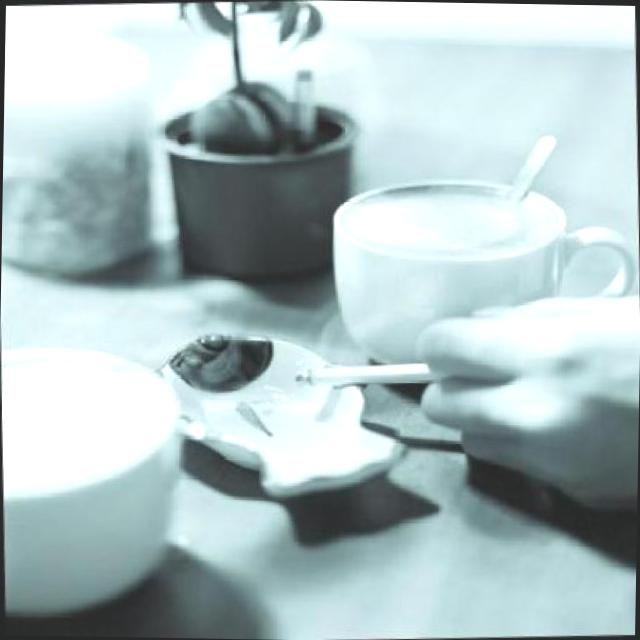cigarette: (292, 358, 449, 392)
